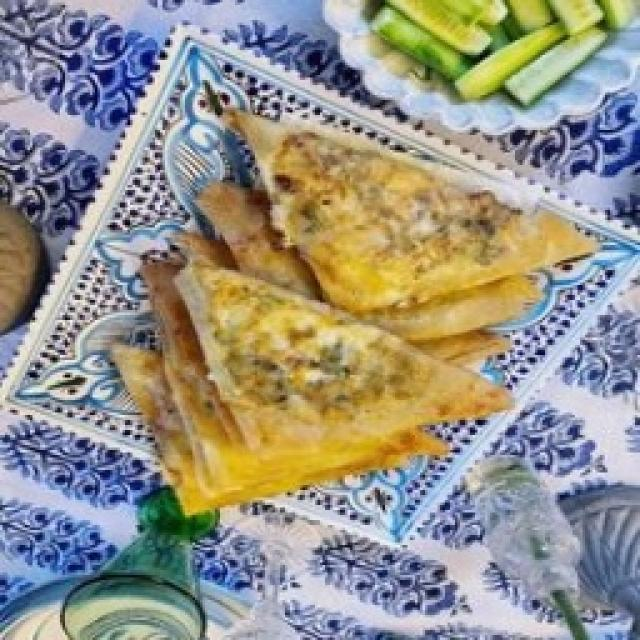Brik: (108, 115, 600, 515)
